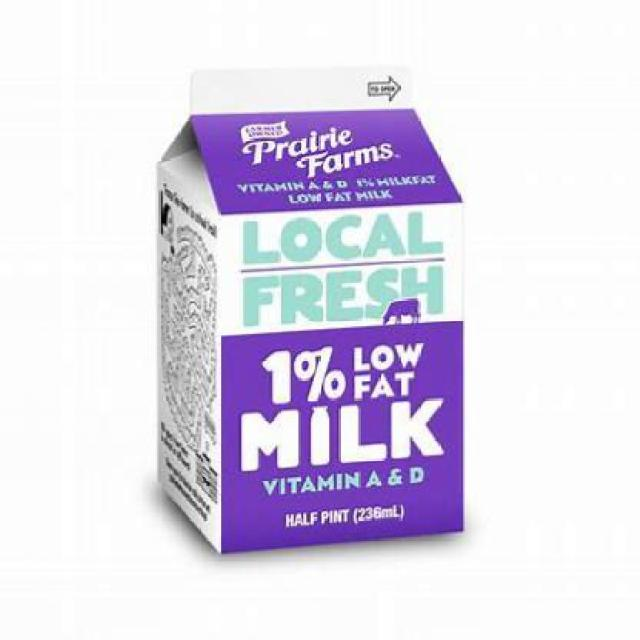drink carton: (154, 57, 468, 555)
